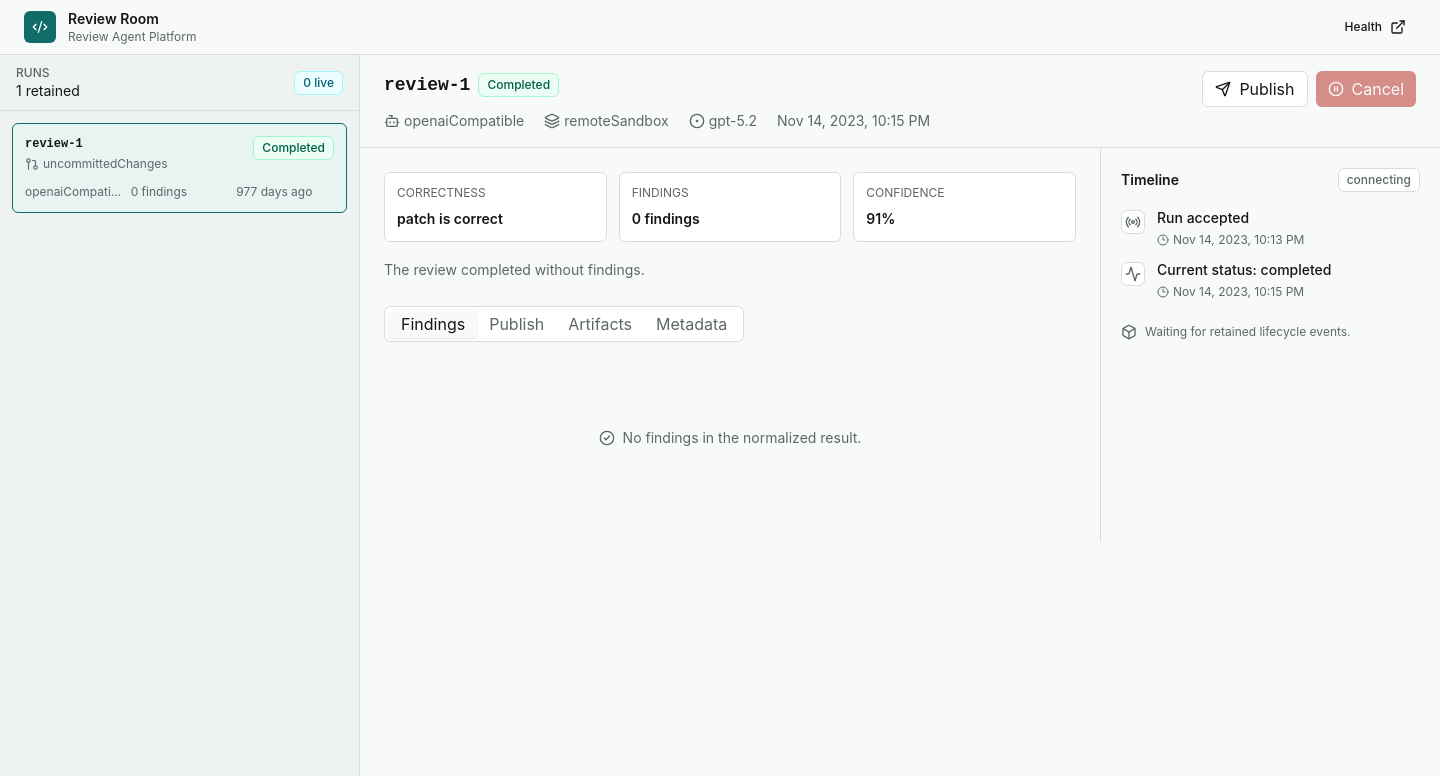
Scenario: ReviewRoom › renders provider policy telemetry in the metadata tab
The image size is (1440, 776).
Click the tab "Metadata" at (692, 324), box [644,310,739,338]
(page scrolled)
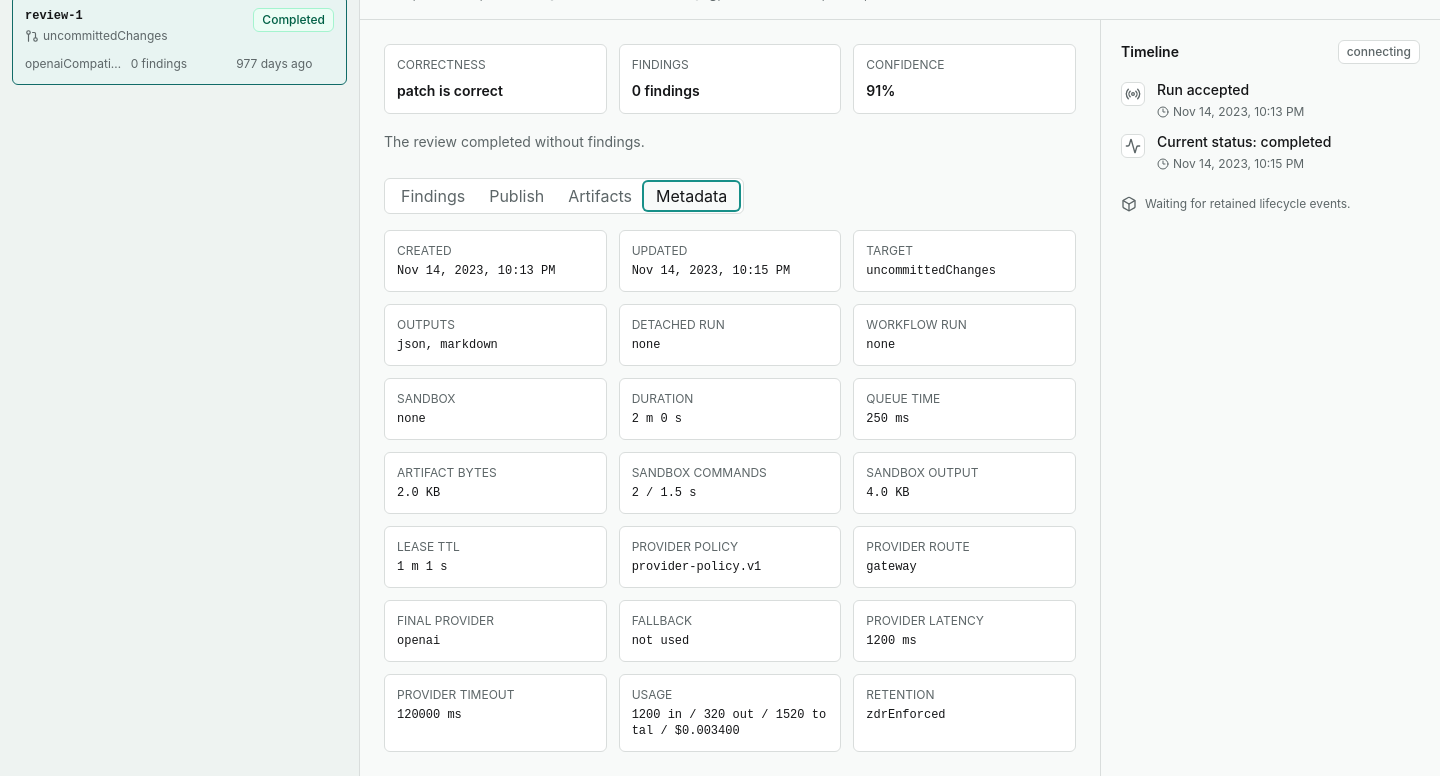
Check: the text "provider-policy.v1" is shown, box [632,560,761,574]
Check: the text "gateway" is shown, box [866,560,917,574]
Check: the text "openai" is shown, box [397,634,440,648]
